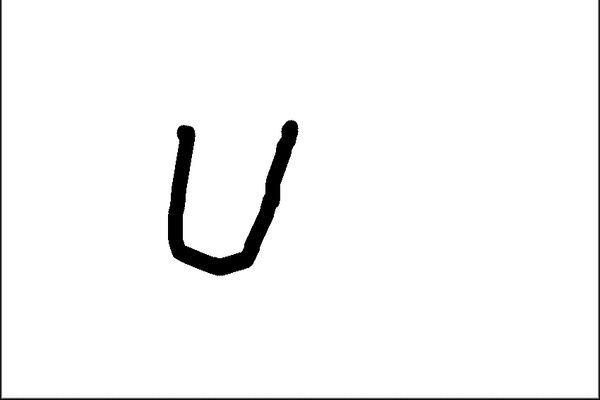U: (147, 111, 306, 275)
